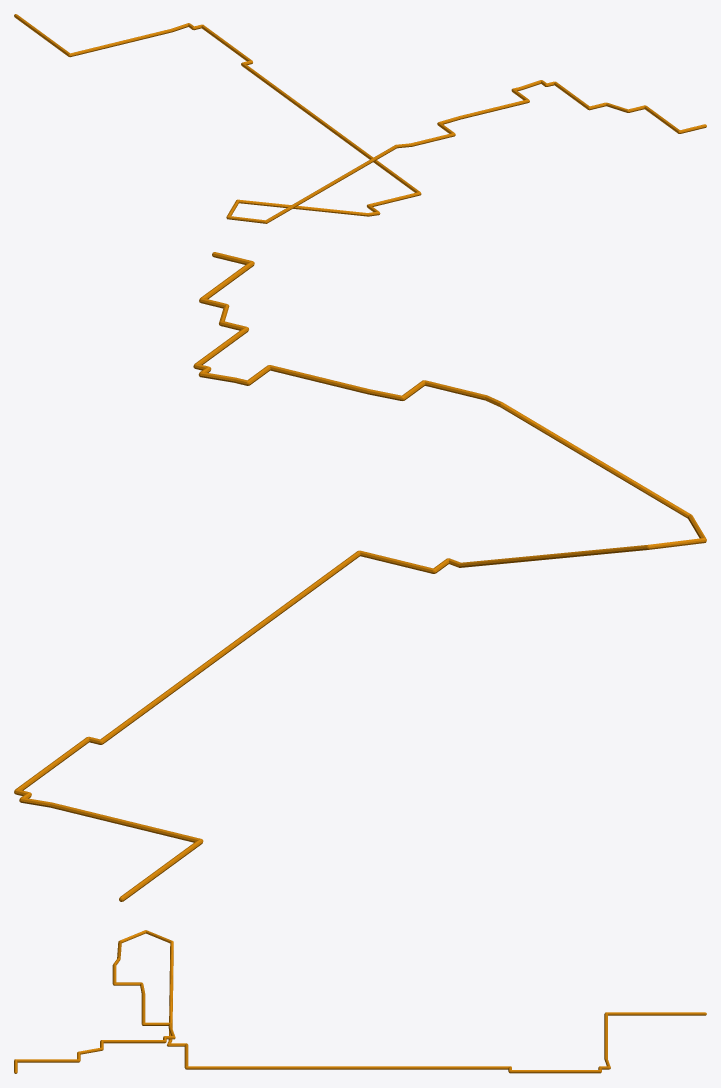
3 renders of one model, top to bottom at view 1: azimuth 30°, elevation 25°; view 2: azimuth 150°, elevation 25°; view 3: azimuth 270°, elevation 25°, orthographic. The views are drawn at different scales.
Size of the model in its own units: 2406 by 520 by 3853.
